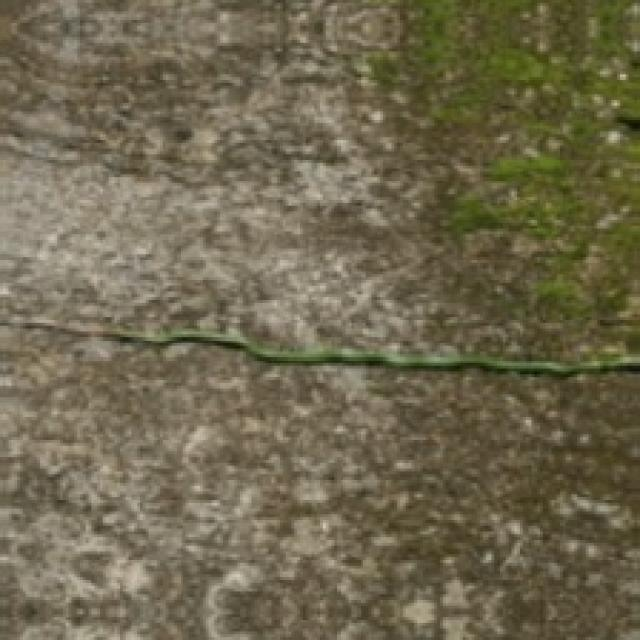red-tailed green ratsnake: (0, 317, 637, 374)
